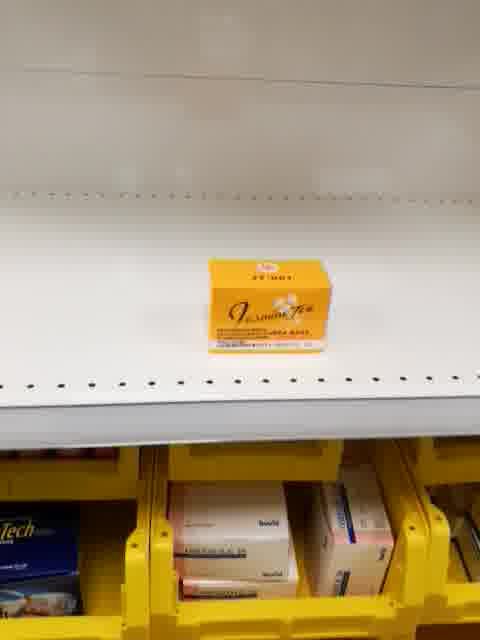jasminetea: (206, 252, 333, 359)
